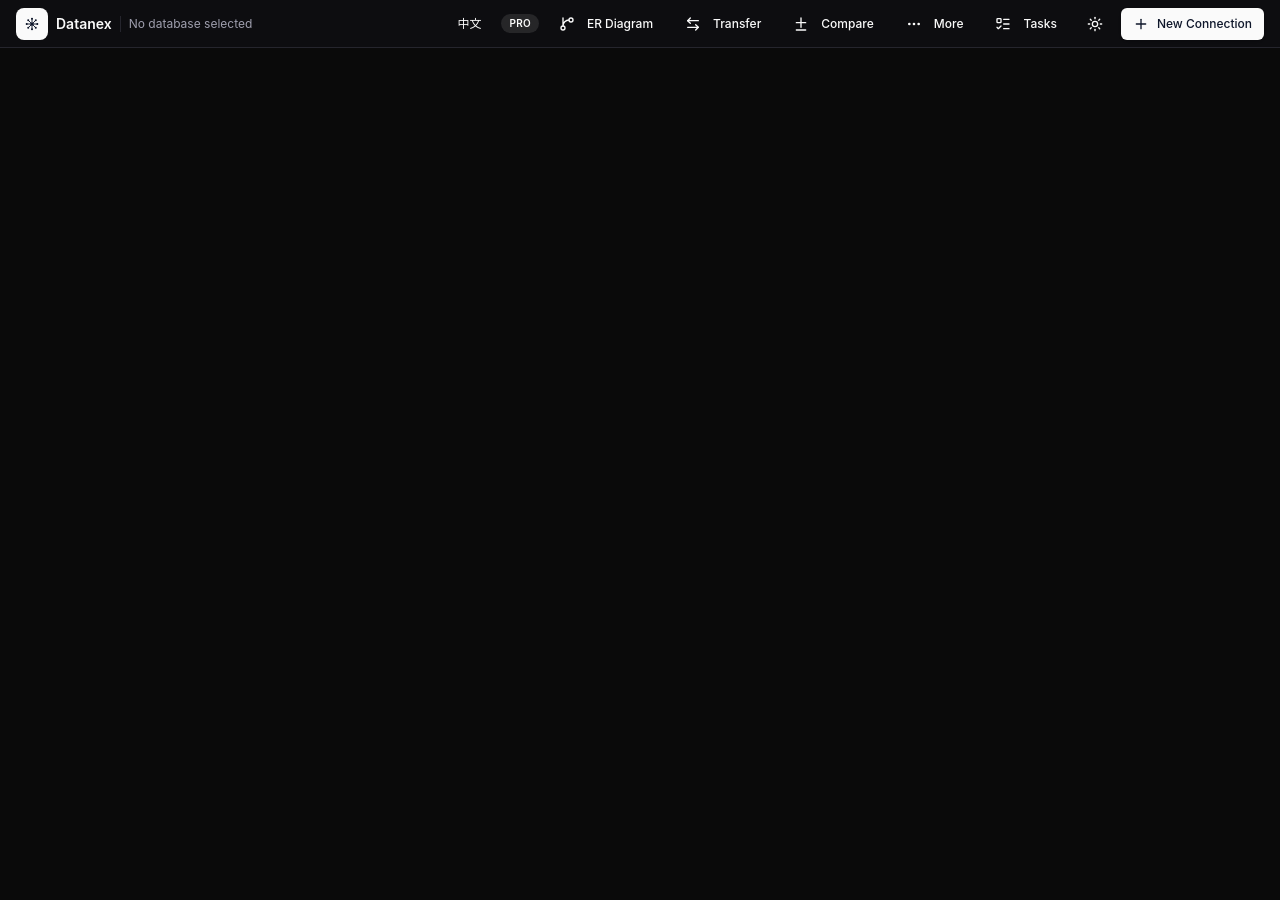
Test: shows action buttons when connectionId is provided
Expected: the button "ER Diagram" is shown, [547,8,665,40]
Expected: the button "Transfer" is shown, [673,8,773,40]
Click the button "More" at (935, 24), box [894,8,976,40]
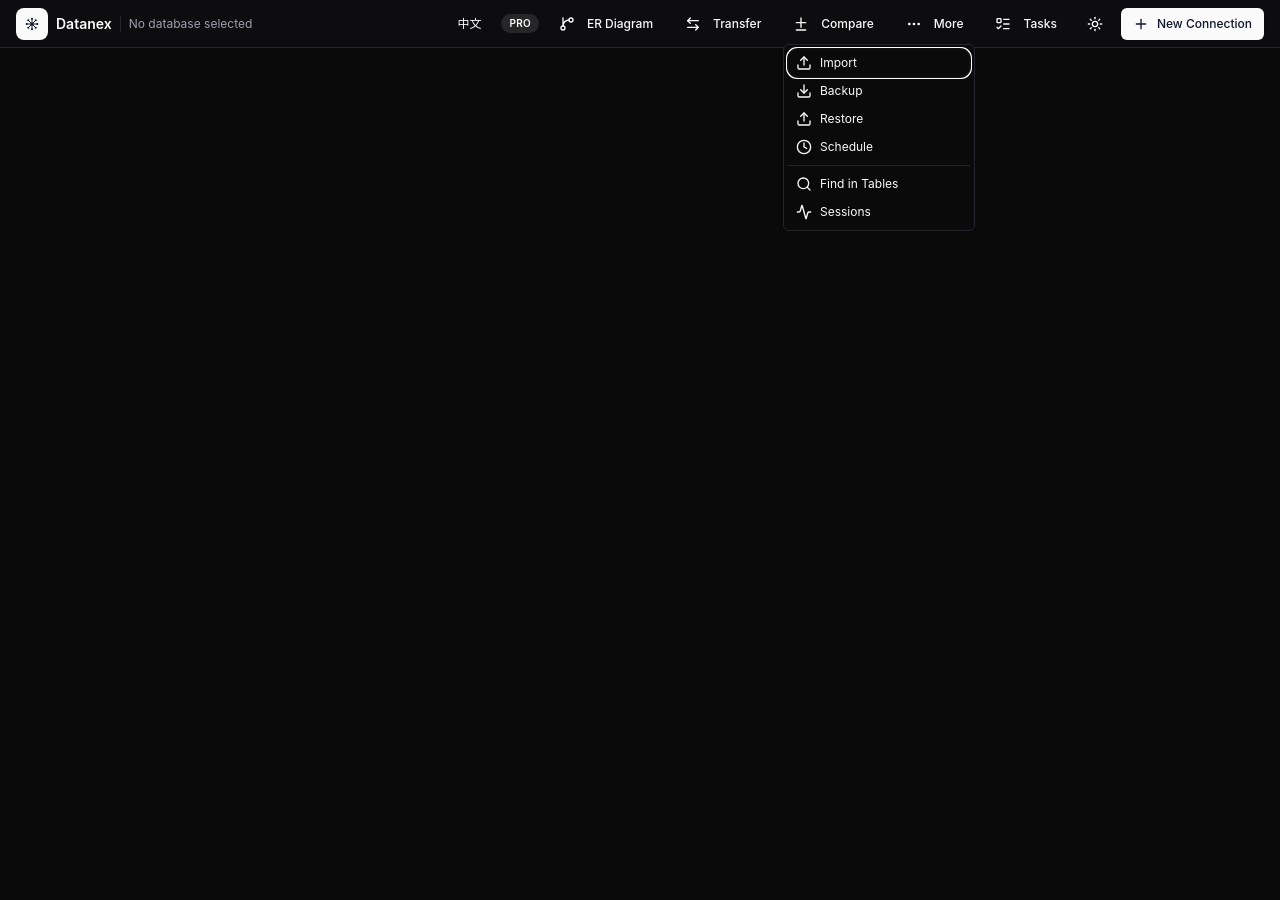
Now the button "Import" is shown, box [788,49,970,77]
Now the button "Backup" is shown, box [788,77,970,105]
Now the button "Restore" is shown, box [788,105,970,133]
